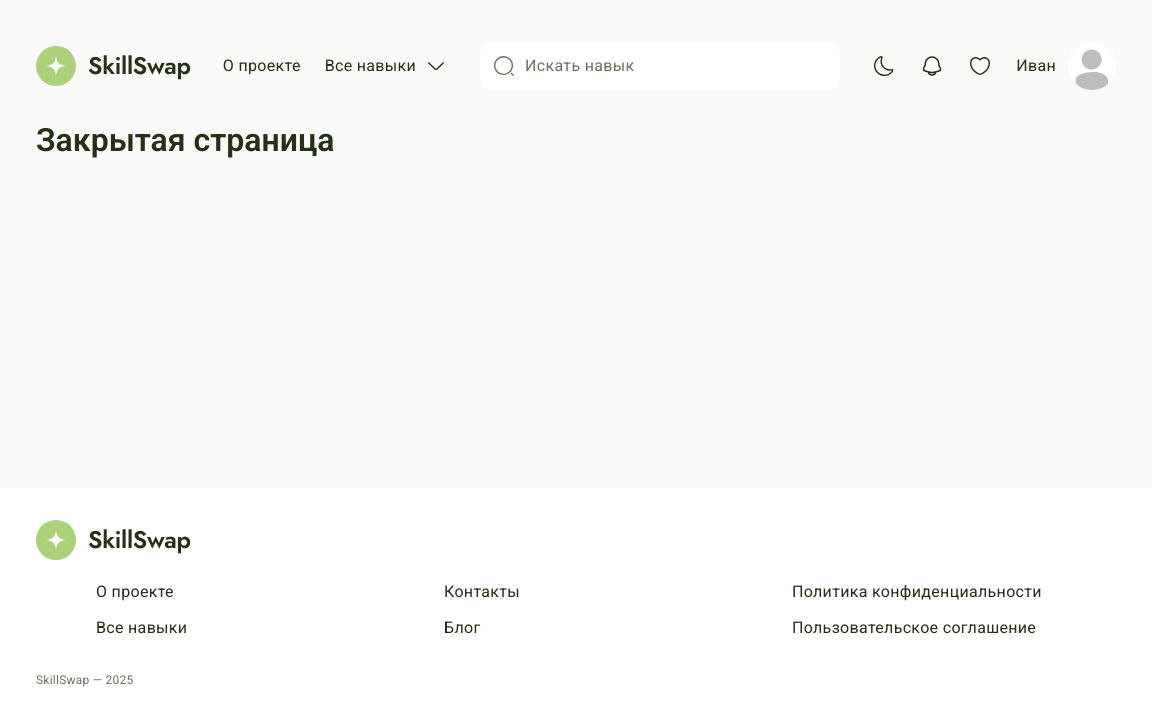
it: MainLayout › выход из меню на /profile открывает главную и сразу меняет шапку на гостевую
Step 1. Click the button "Иван" → point(1066, 66), box x1=1016 y1=42 x2=1116 y2=90
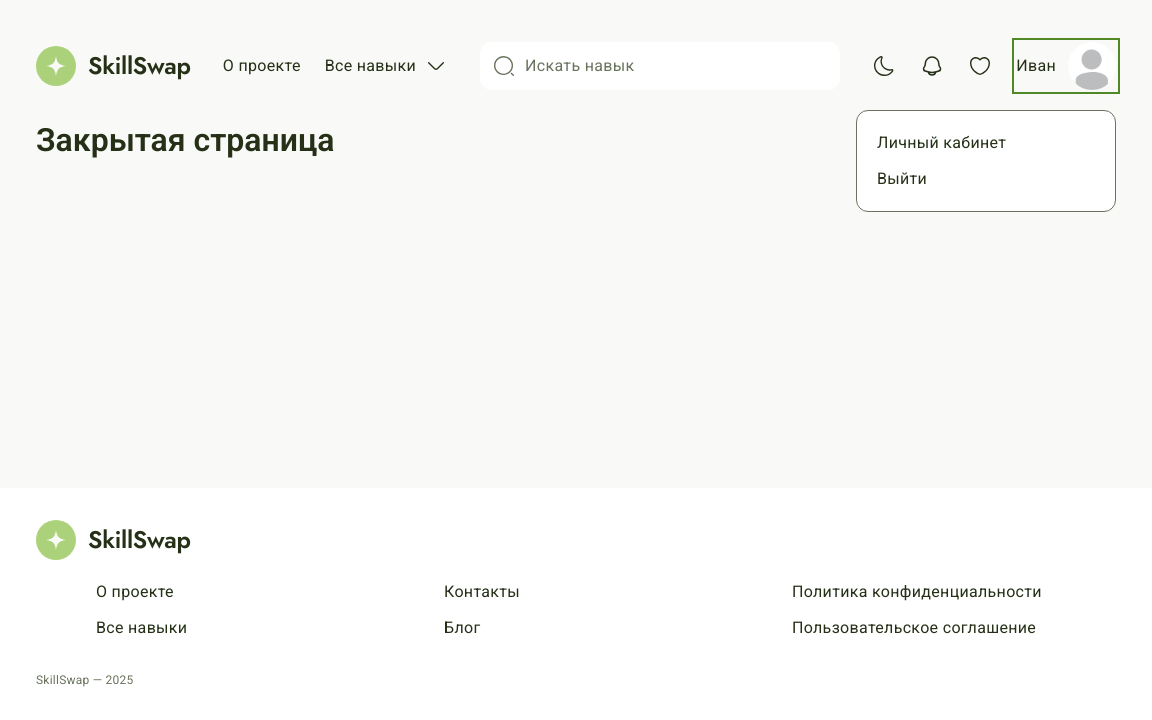
Step 2. Click the button "Выйти" → point(986, 179), box x1=877 y1=167 x2=1095 y2=191
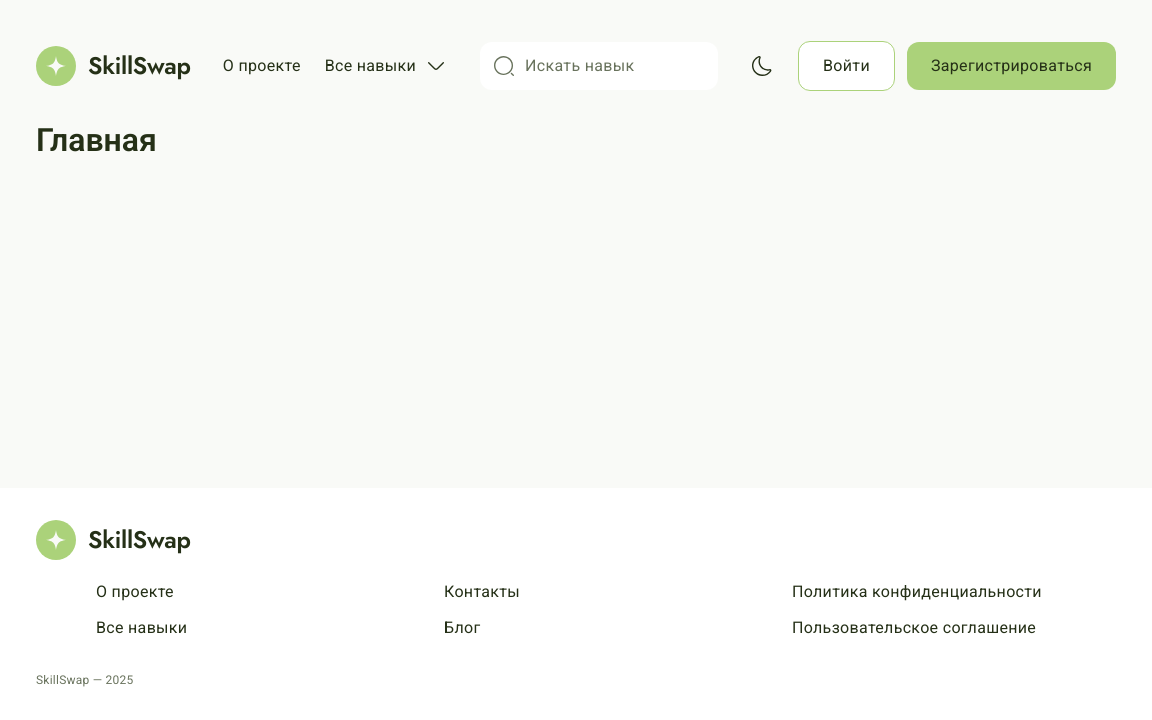
Expected: the heading "Главная" is shown, x1=36 y1=121 x2=157 y2=159
Expected: the button "Войти" is shown, x1=798 y1=41 x2=895 y2=91
